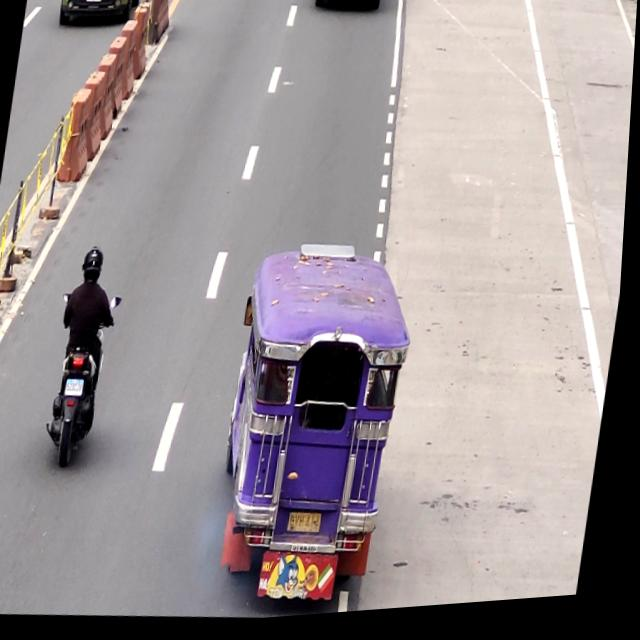Jeep: (209, 242, 422, 616)
License-Plate: (292, 512, 331, 544), (66, 376, 90, 400)
Motorcycle: (40, 243, 129, 477), (313, 0, 387, 20)
